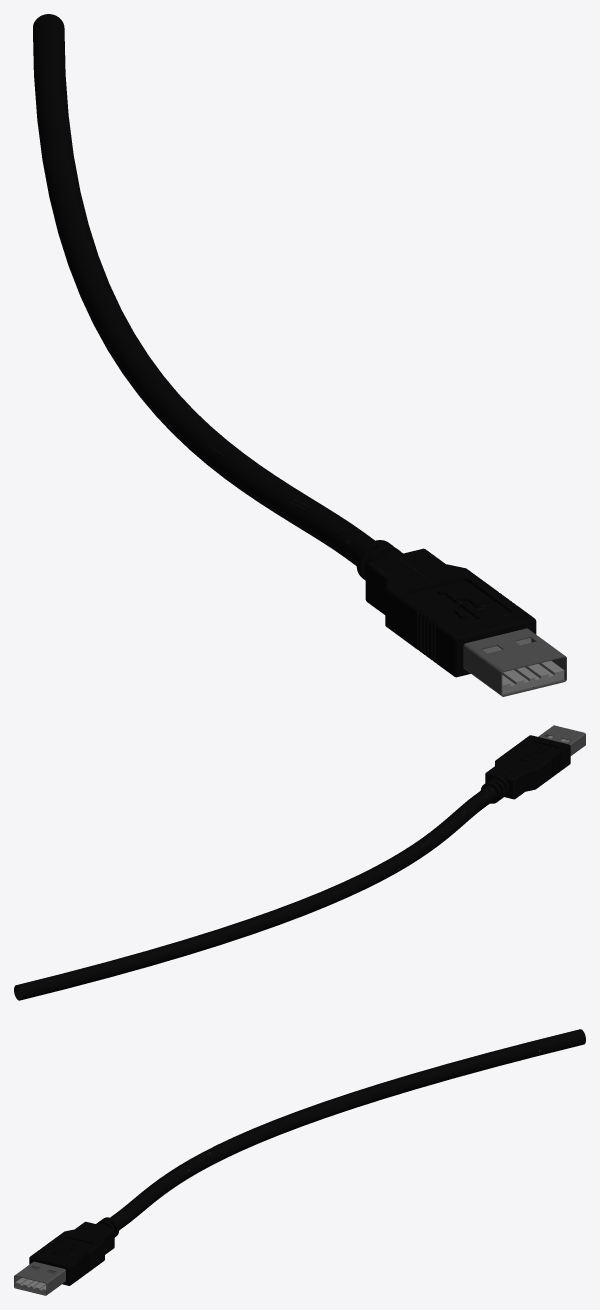
3 renders of one model, top to bottom at view 1: azimuth 30°, elevation 25°; view 2: azimuth 150°, elevation 25°; view 3: azimuth 330°, elevation 25°, orthographic. The views are drawn at different scales.
Visible parts, largest first — view 1: node; view 2: node; view 3: node.
Part boxes in pixels (x1,y1,x2,y2): node: (33, 14, 566, 696); node: (14, 725, 585, 1000); node: (14, 1029, 585, 1295).
Size of the model in its own units: 0.0659 by 0.0075 by 0.252.
1 material, 1 textured.
